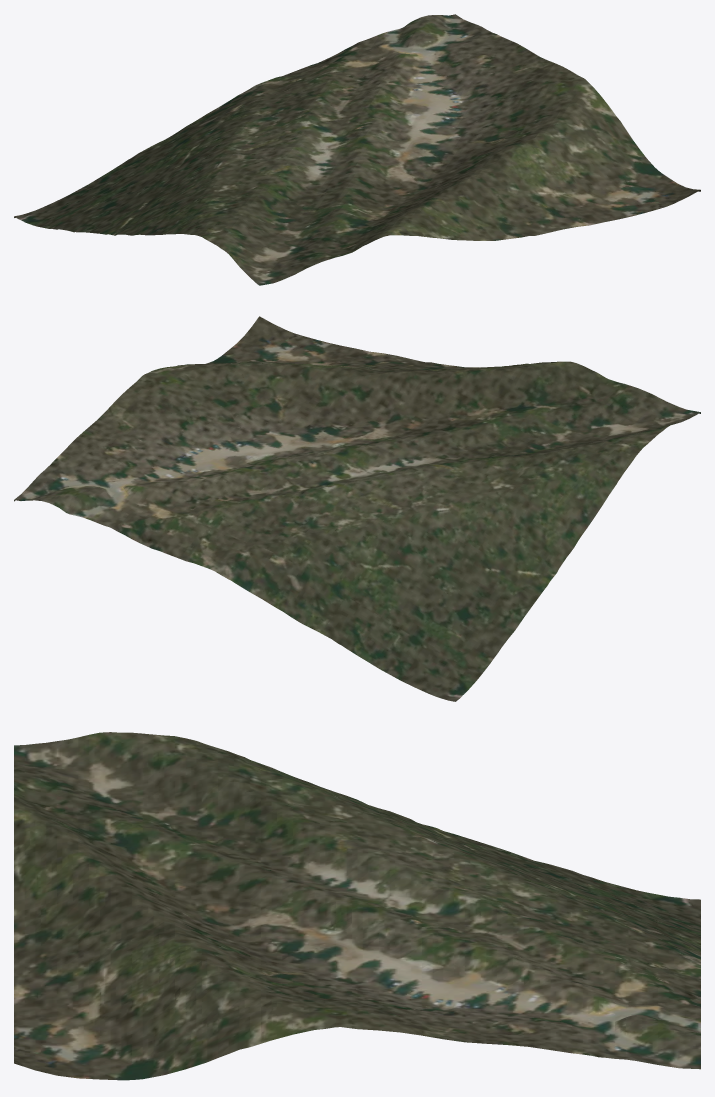
3 views of the same model, one above another, from view 1: azimuth 30°, elevation 25°; view 2: azimuth 150°, elevation 25°; view 3: azimuth 270°, elevation 25° (orthographic). The views are drawn at different scales.
Bounding box in the file's own units: 250 × 70.95 × 241.
Materials: 1 (1 with a texture image).
